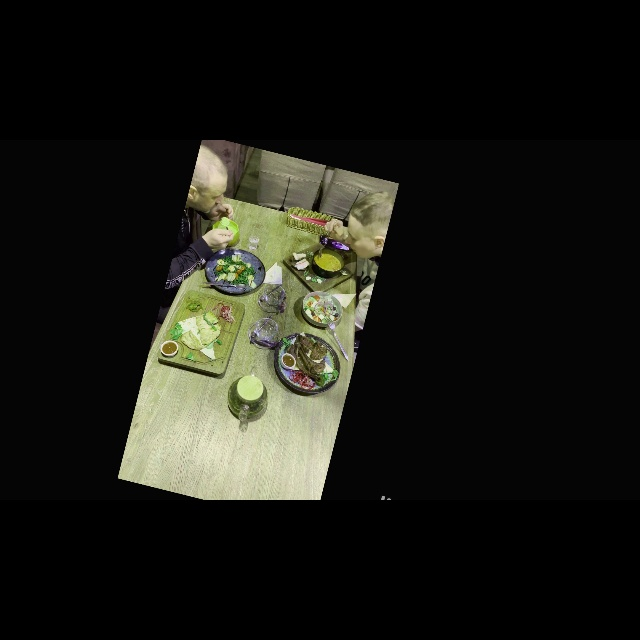графин с чаем: (222, 362, 275, 426)
закуска: (155, 285, 247, 378)
мясное блюдо: (267, 327, 347, 400)
салат: (200, 242, 270, 301)
салат цезарь: (298, 288, 346, 331)
